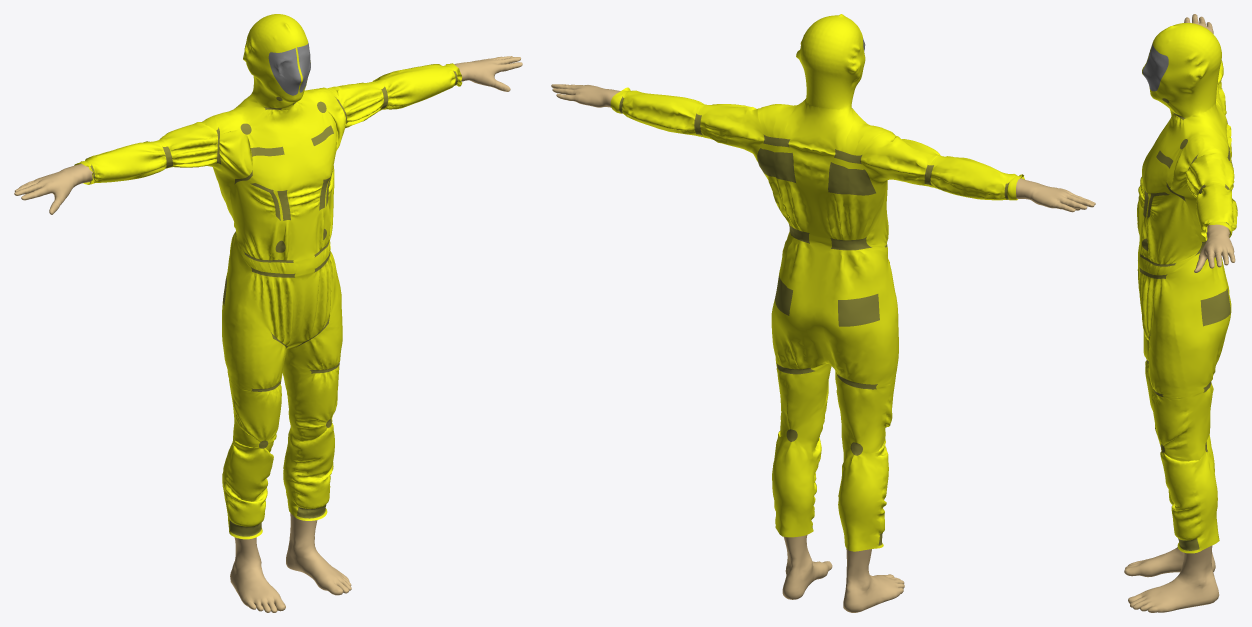
3 renders of one model, left to right at view 1: azimuth 30°, elevation 25°; view 2: azimuth 150°, elevation 25°; view 3: azimuth 270°, elevation 25°, orthographic. The views are drawn at different scales.
Visible parts, largest first — view 1: Hazmat_fbx, BodyShape; view 2: Hazmat_fbx, BodyShape; view 3: Hazmat_fbx, BodyShape.
Part boxes in pixels (x1=…): Hazmat_fbx: x1=74, y1=14, x2=462, y2=539; BodyShape: x1=14, y1=56, x2=522, y2=612; Hazmat_fbx: x1=610, y1=14, x2=1024, y2=551; BodyShape: x1=551, y1=84, x2=1095, y2=612; Hazmat_fbx: x1=1137, y1=23, x2=1237, y2=553; BodyShape: x1=1124, y1=14, x2=1235, y2=612.
Bounding box in the file's own units: 1735 × 1809 × 331.
